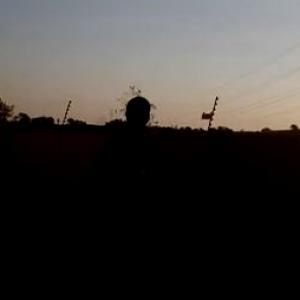follow: (83, 93, 165, 299)
